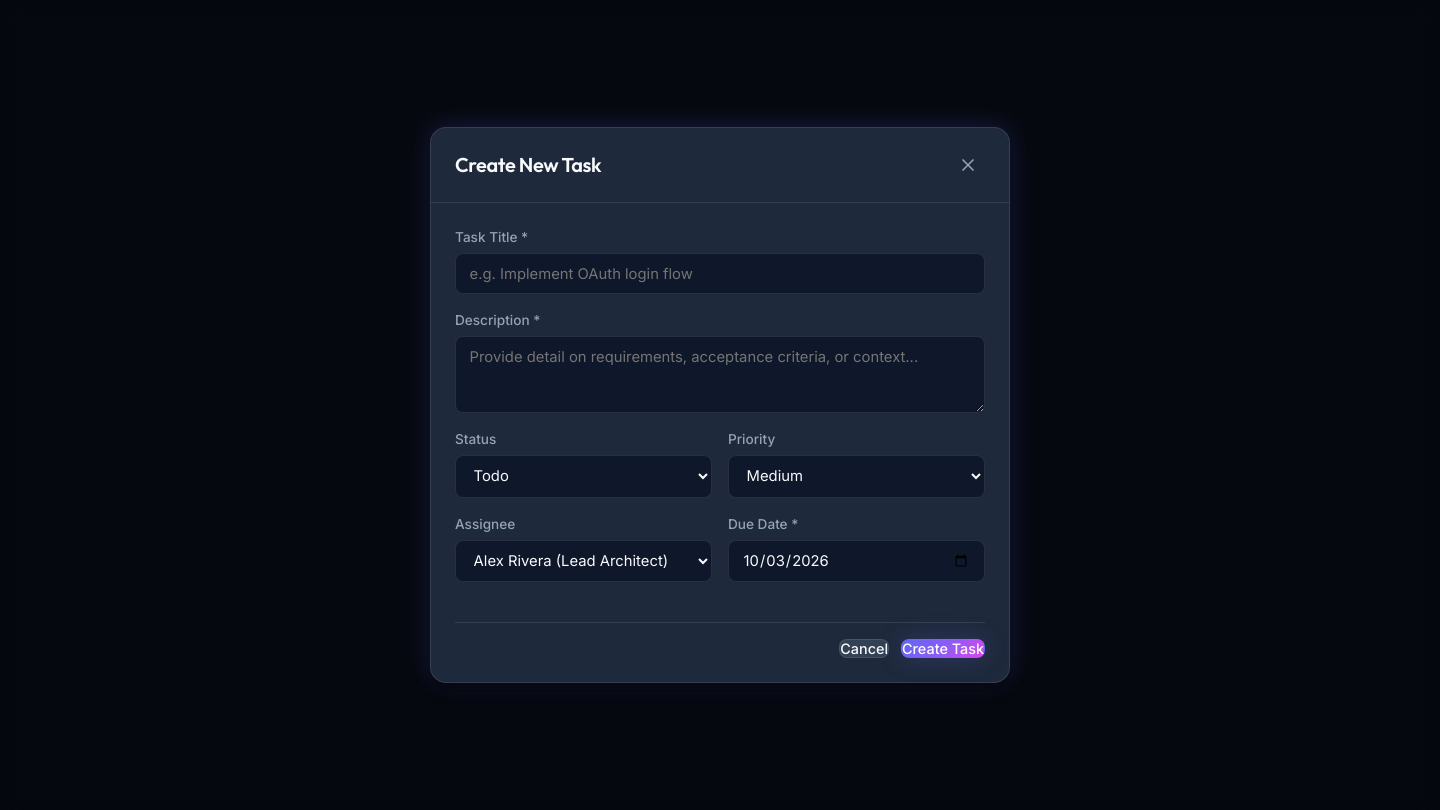
Test case: TaskModal & Form Validation › renders required field validation errors when submitting an empty form
Submit form
Click the button "Create Task".
click(943, 649)  # box [901,639,985,658]
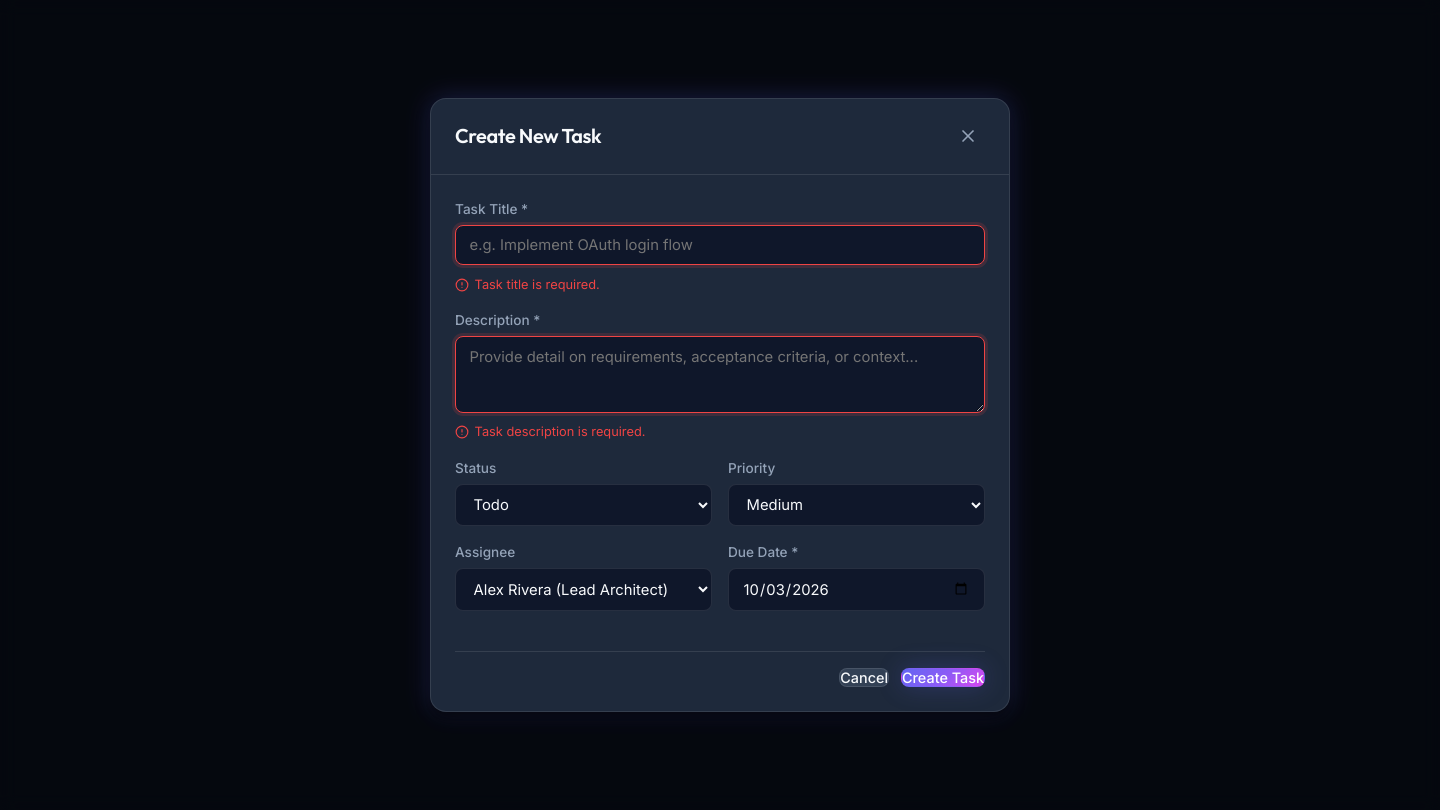
Result: the text "Task title is required." is shown at [455,277,600,292]
Result: the text "Task description is required." is shown at [455,424,646,440]
